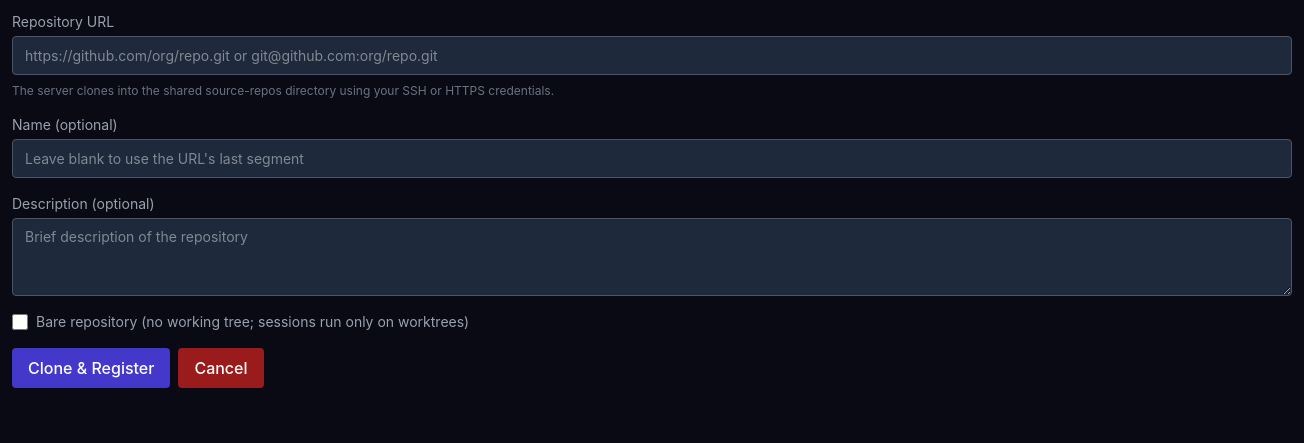
Test: CloneFromUrlForm › submit + failure › displays a submit error when the POST itself fails
Type "https://example.com/foo.git" into the field with placeholder "https://github.com".
click(652, 56); type("https://example.com/foo.git")  # box [12,36,1292,75]
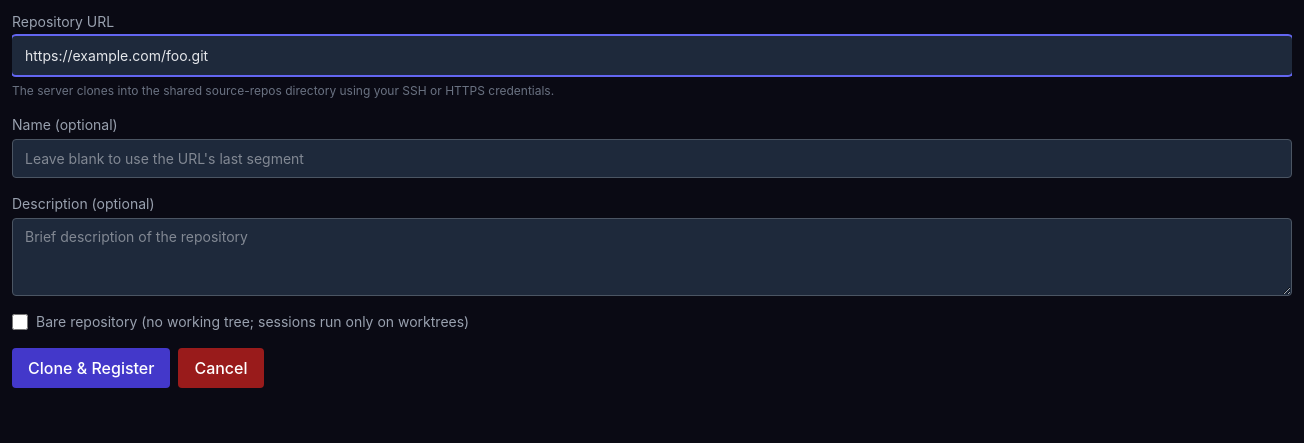
Click the button "Clone & Register".
click(91, 368)  # box [12,348,170,388]
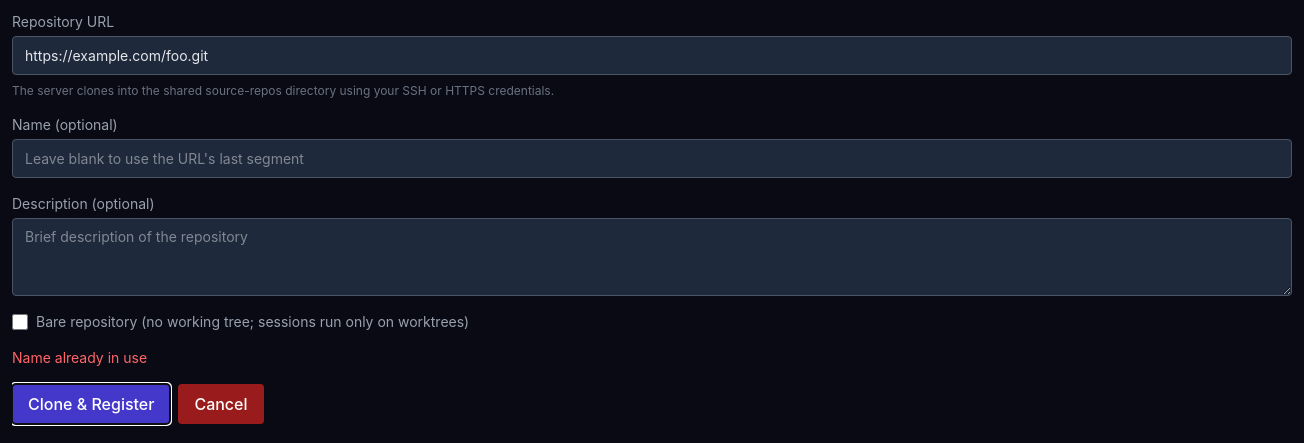
Check: the text "Name already in use" is shown, box [12,349,147,366]
